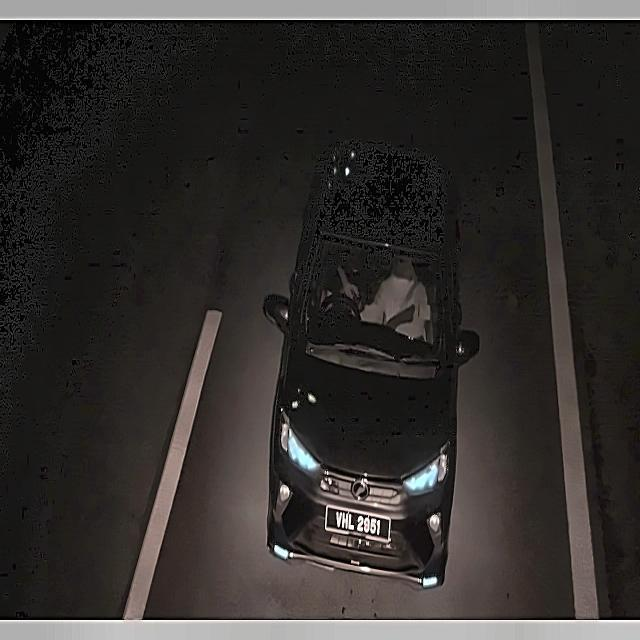car: (327, 506, 389, 544)
